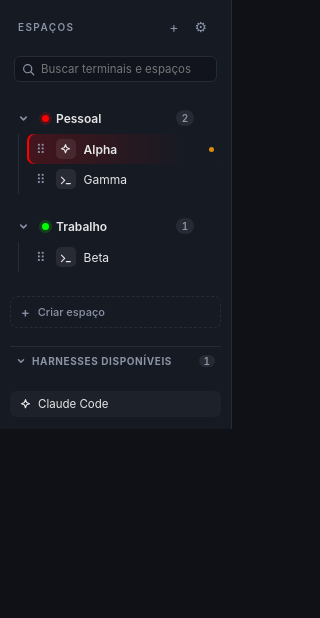
Test: Sidebar › botão direito na sessão abre menu e permite duplicar
The width and height of the screenshot is (320, 618).
Right-click the text "Alpha" at (100, 149), box [84,142,117,156]
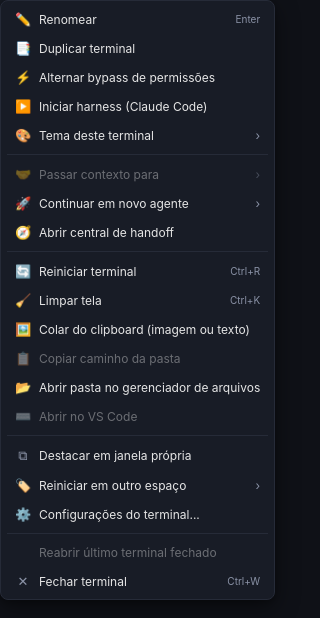
Check: the text "Duplicar terminal" is shown
Check: the text "Reiniciar terminal" is shown, box [39,264,136,278]
Check: the text "Limpar tela" is shown, box [39,292,102,308]
Click the text "Duplicar terminal" at (87, 48), box [39,40,135,56]
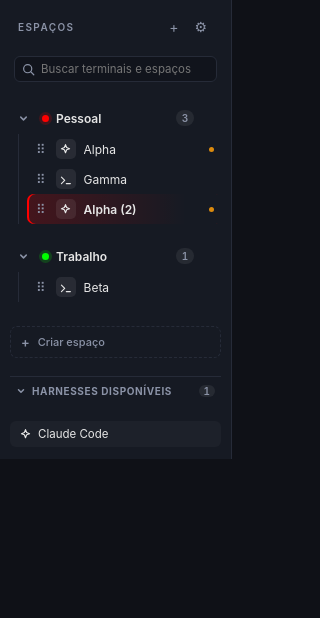
Check: the text "Alpha (2)" is shown, box [84,202,137,216]
